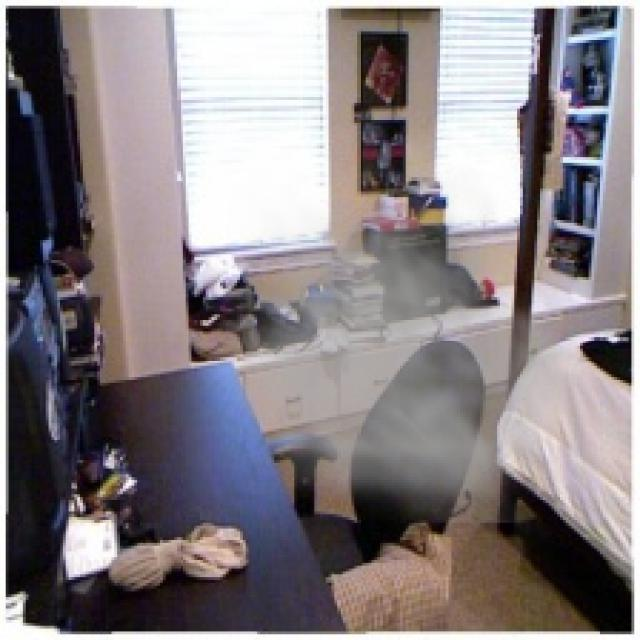Smoke: (202, 163, 594, 523)
